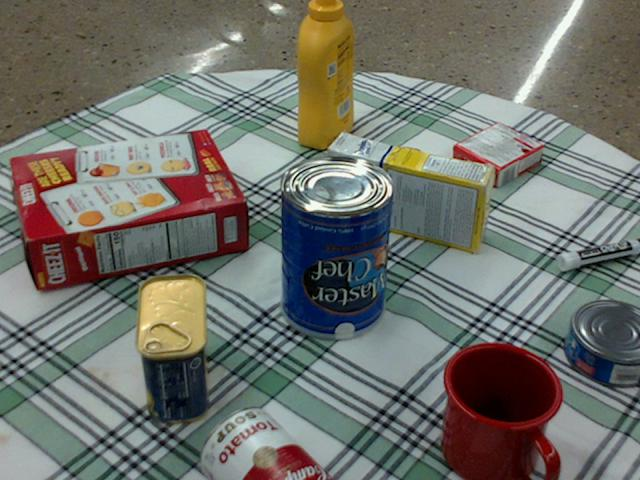cracker_box: (11, 130, 244, 289)
gelatin_box: (451, 122, 542, 187)
large_marker: (557, 238, 639, 270)
master_chef_can: (281, 155, 394, 338)
mug: (439, 342, 561, 479)
mustard_bottle: (296, 0, 352, 148)
potted_meat_can: (135, 274, 209, 422)
sugar_box: (325, 134, 495, 253)
tomato_soup_can: (199, 408, 329, 479)
tuna_fish_can: (565, 300, 639, 387)
